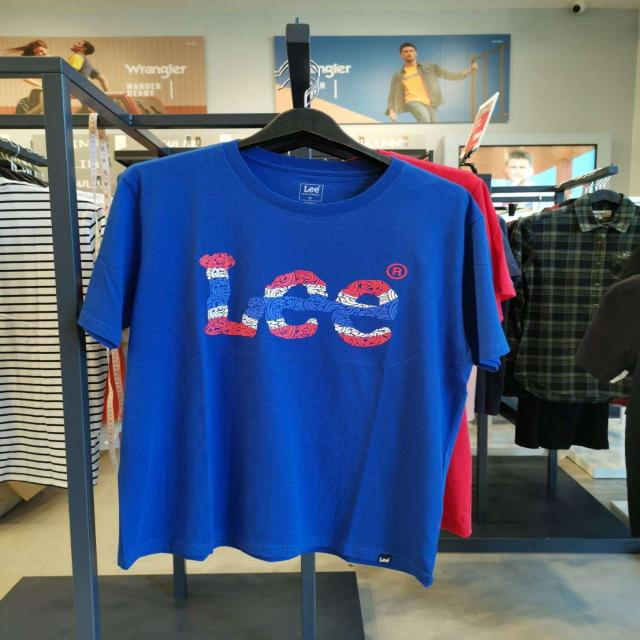Tshirt: (81, 140, 501, 568)
